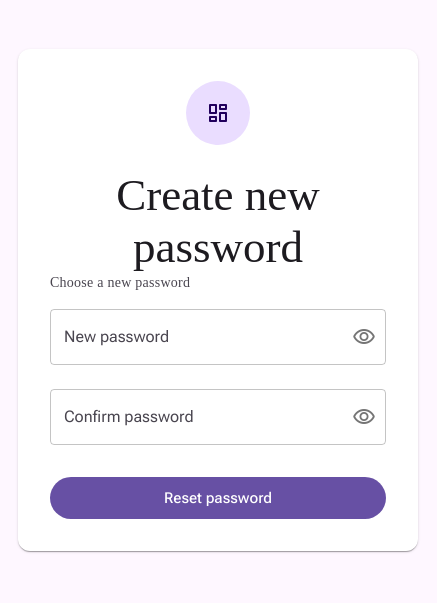
ResetPasswordPage › shows an invalid or expired token error
The width and height of the screenshot is (437, 603).
Type "CorrectPassword1" into the password field labelled "New password" at (193, 337), box [50,309,336,365]
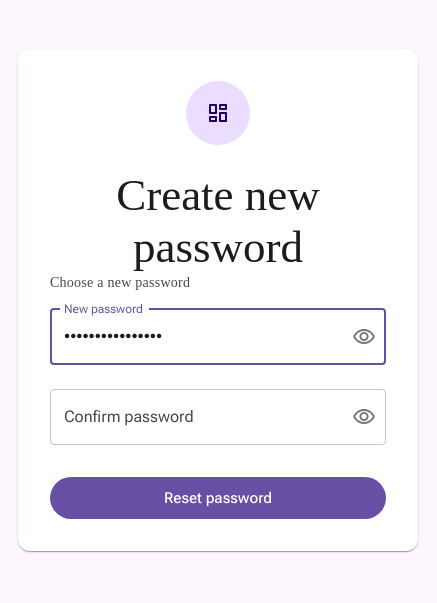
Type "CorrectPassword1" into the password field labelled "Confirm password" at (193, 417), box [50,389,336,445]
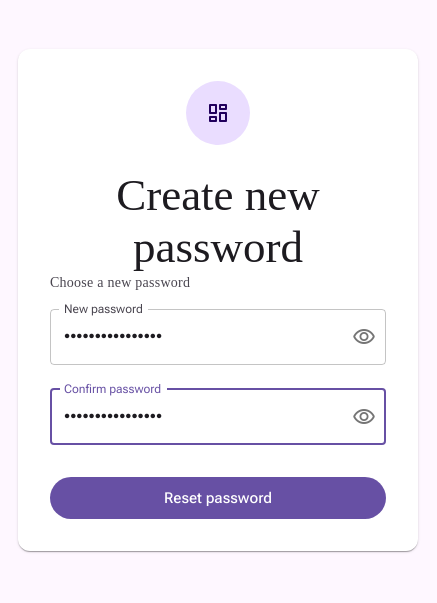
Click the button "Reset password" at (218, 498), box [50,477,386,519]
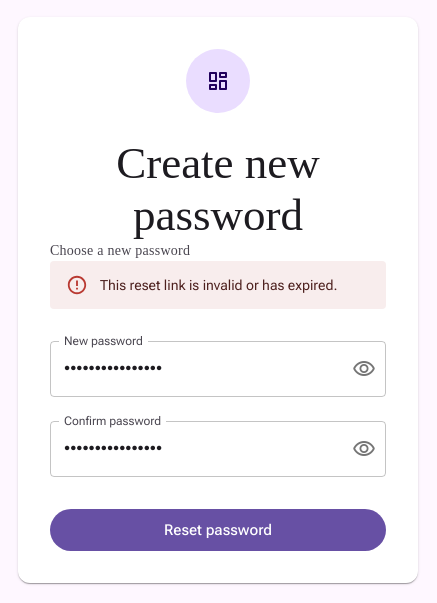
Check: the text "This reset link is invalid or has expired." is shown, box [100,275,337,295]
